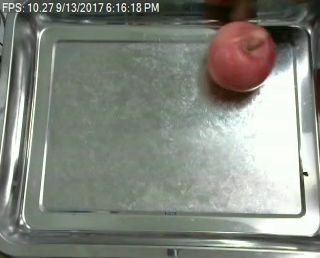Apple: (205, 19, 276, 94)
